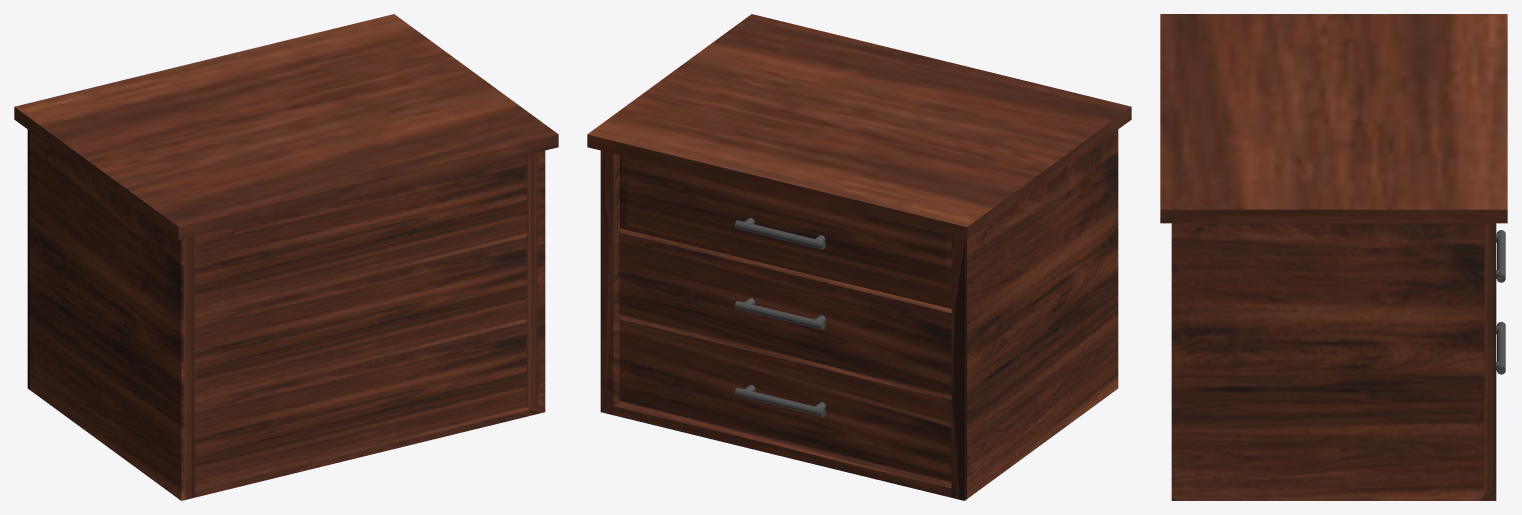
Rendered from Dresser.fbx.
3 views of the same model, side by side, from view 1: azimuth 30°, elevation 25°; view 2: azimuth 150°, elevation 25°; view 3: azimuth 270°, elevation 25° (orthographic). The views are drawn at different scales.
Visible parts, largest first — view 1: polySurface452; view 2: polySurface452; view 3: polySurface452.
Part boxes in pixels (x1,y1,x2,y2): polySurface452: [14, 14, 558, 500]; polySurface452: [587, 14, 1131, 500]; polySurface452: [1160, 14, 1507, 500].
Bounding box in the file's own units: 0.8879 × 0.6246 × 0.6659.
